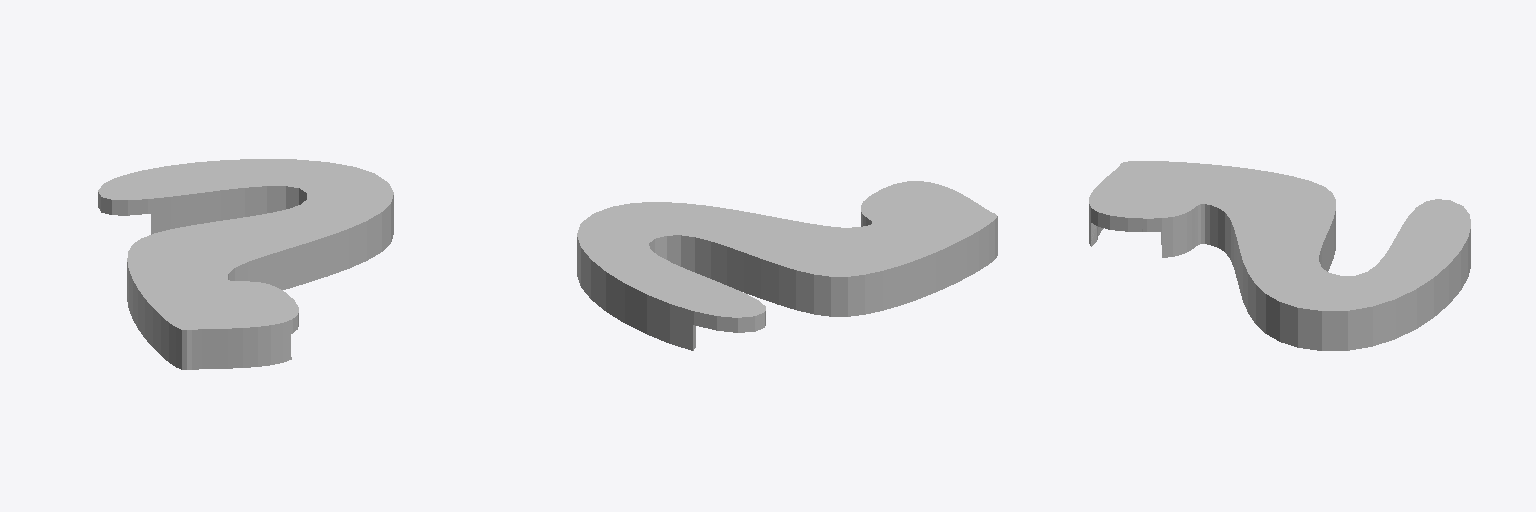
File: track9_deco.obj
The picture shows the model from 3 angles: view 1: azimuth 30°, elevation 25°; view 2: azimuth 150°, elevation 25°; view 3: azimuth 270°, elevation 25°; orthographic projection.
Visible parts, largest first — view 1: path817.007_path817.010; view 2: path817.007_path817.010; view 3: path817.007_path817.010.
Part boxes in pixels (left/top/right/bottom): path817.007_path817.010: left=98, top=159, right=393, bottom=369; path817.007_path817.010: left=577, top=181, right=997, bottom=350; path817.007_path817.010: left=1089, top=161, right=1470, bottom=350.
Size of the model in its own units: 189 by 23.46 by 203.